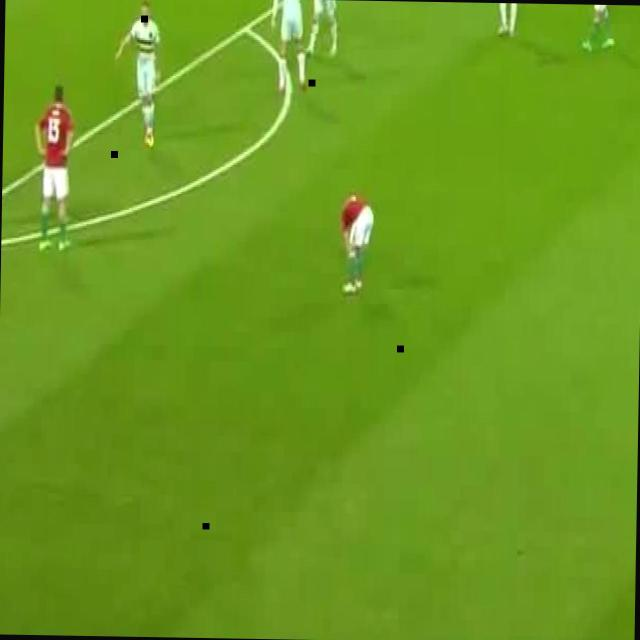player-white: (33, 85, 75, 253), (114, 2, 162, 148), (338, 192, 374, 295), (270, 0, 308, 90), (306, 0, 338, 60), (579, 4, 616, 54), (483, 3, 520, 39)
